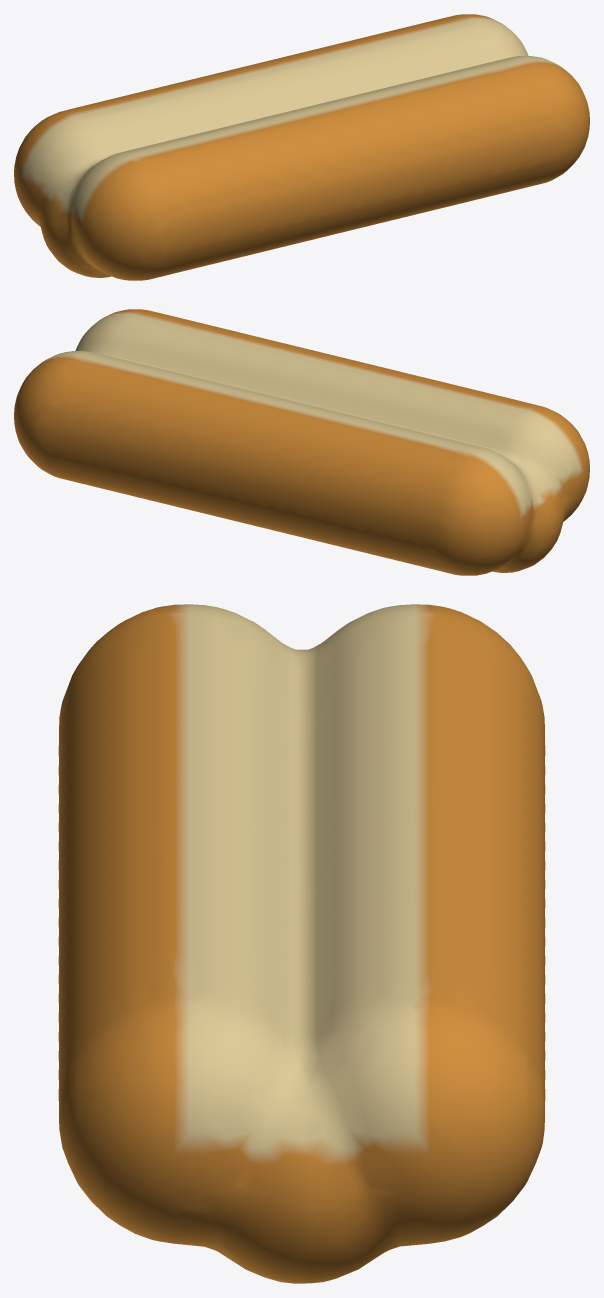
File: hotdog_bun.glb
3 views of the same model, one above another, from view 1: azimuth 30°, elevation 25°; view 2: azimuth 150°, elevation 25°; view 3: azimuth 270°, elevation 25° (orthographic). The views are drawn at different scales.
Visible parts, largest first — view 1: hotdog_bun; view 2: hotdog_bun; view 3: hotdog_bun.
Part boxes in pixels (x1=…): hotdog_bun: x1=14, y1=14, x2=589, y2=280; hotdog_bun: x1=14, y1=309, x2=589, y2=575; hotdog_bun: x1=58, y1=604, x2=545, y2=1283.
Bounding box in the file's own units: 0.1951 × 0.0493 × 0.0811.
